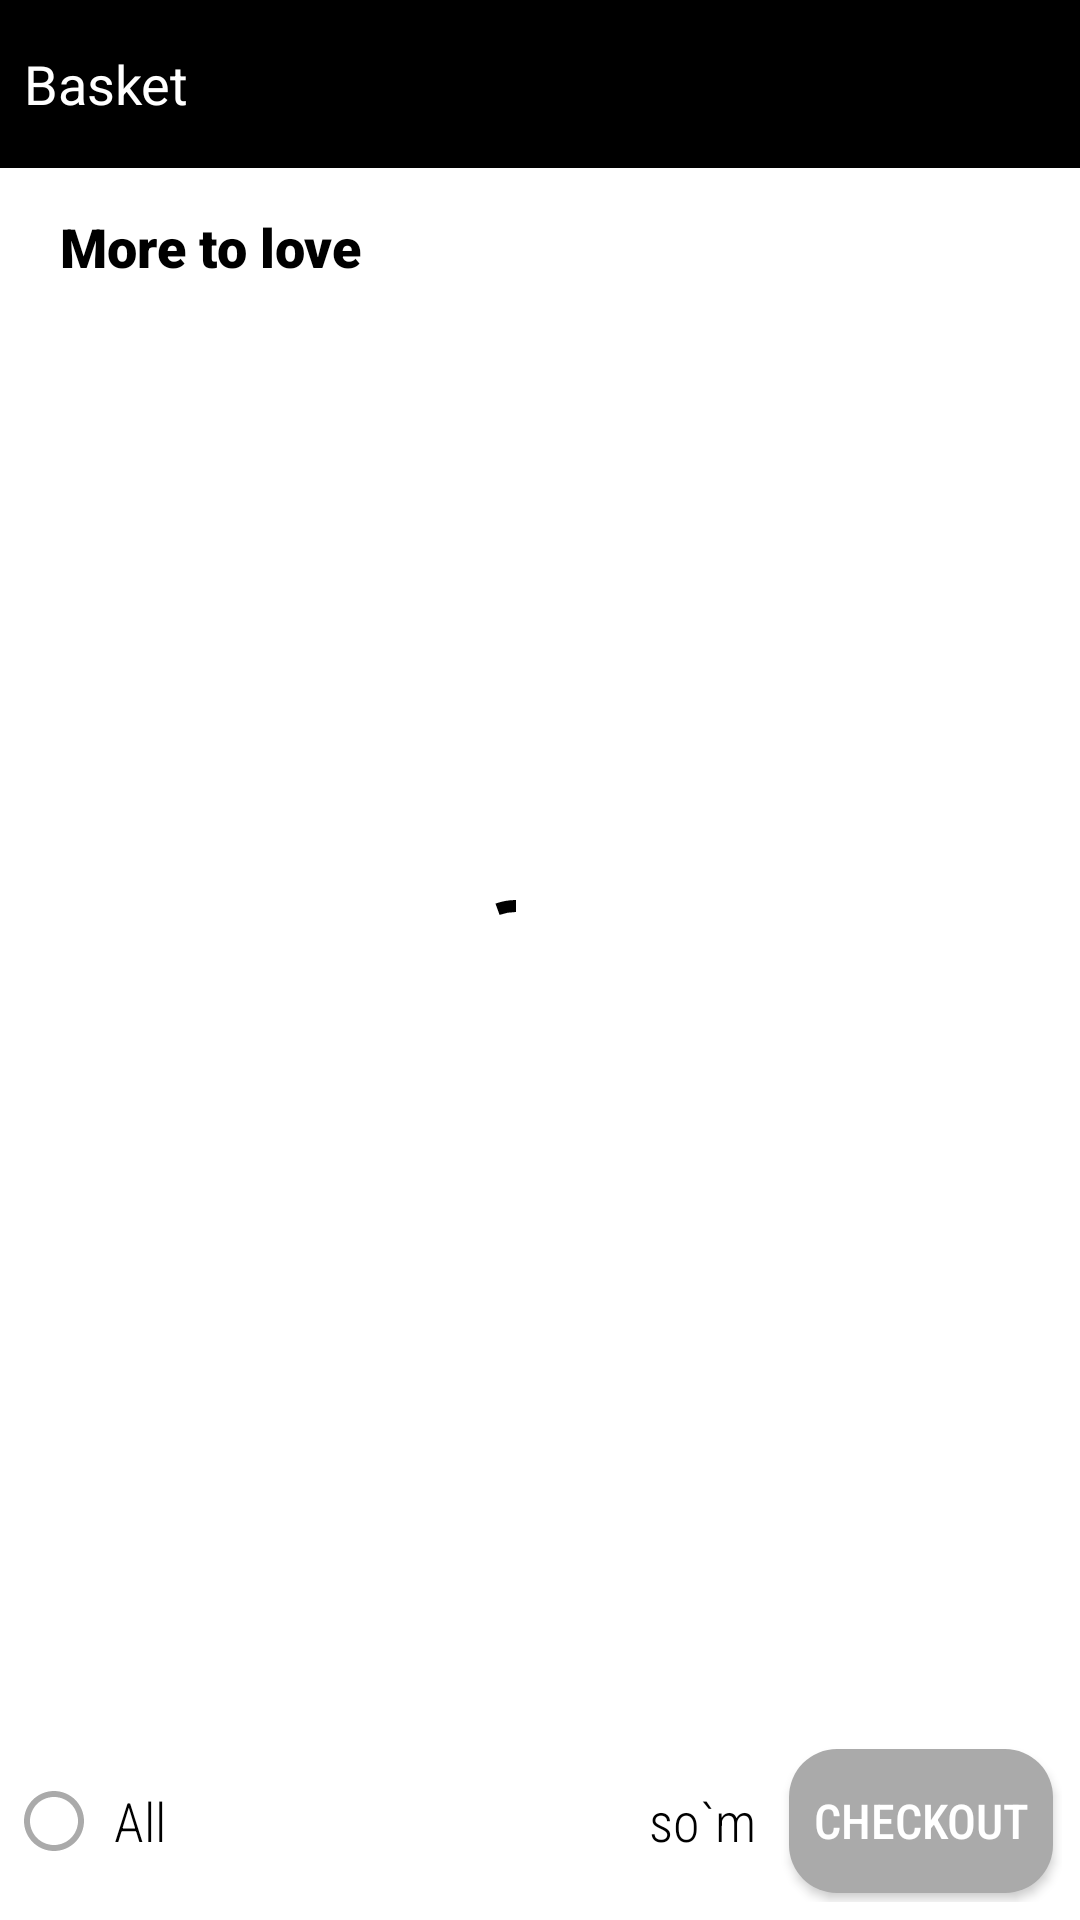

Icon bounding boxes for this 1080px×1920px phone screenshot, format Rect(x1, y1, x2, y2):
uncheck: Rect(24, 1791, 84, 1851)
